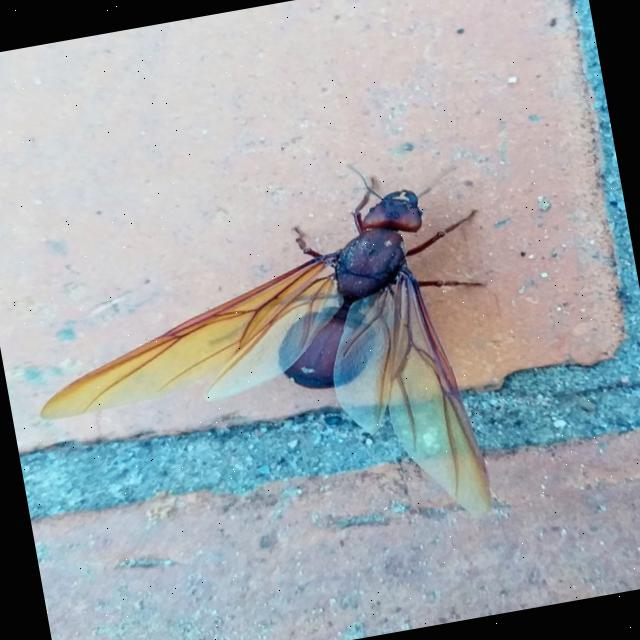Alive-Female-Alate: (8, 142, 530, 587)
